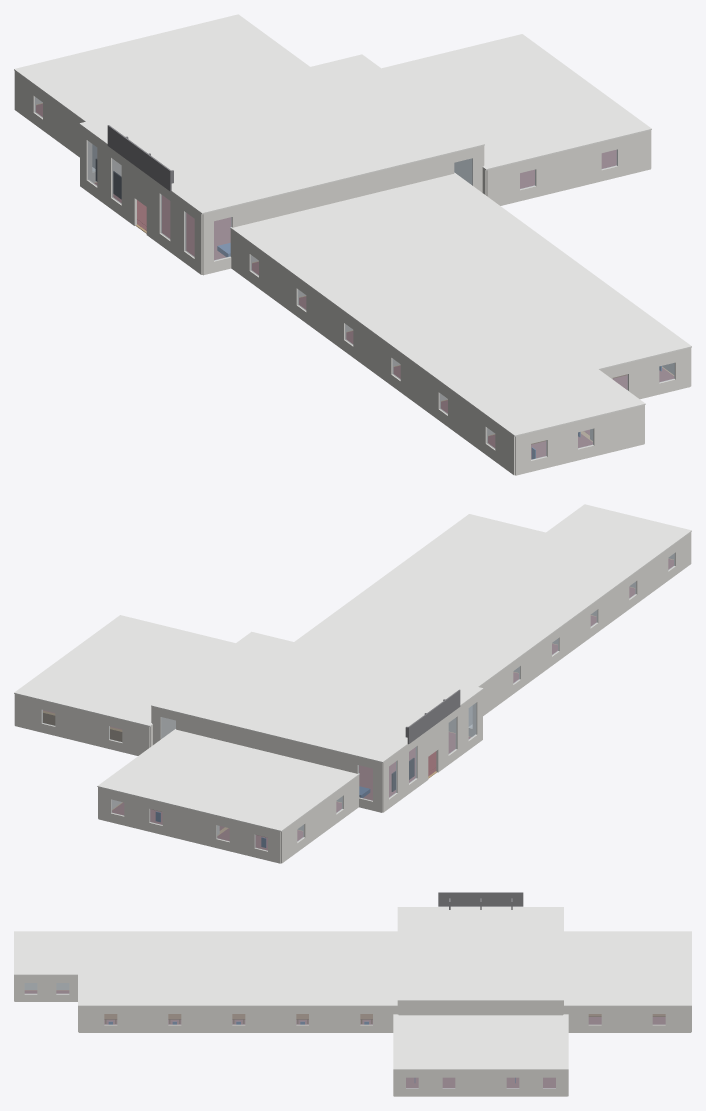
The model's file is mpai.glb.
3 views of the same model, one above another, from view 1: azimuth 30°, elevation 25°; view 2: azimuth 150°, elevation 25°; view 3: azimuth 270°, elevation 25° (orthographic). The views are drawn at different scales.
Size of the model in its own units: 38.35 by 6.78 by 74.2.
